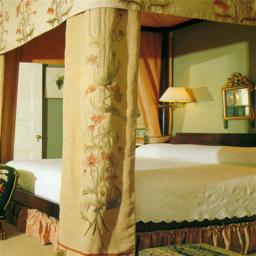Cama: (7, 8, 250, 248)
